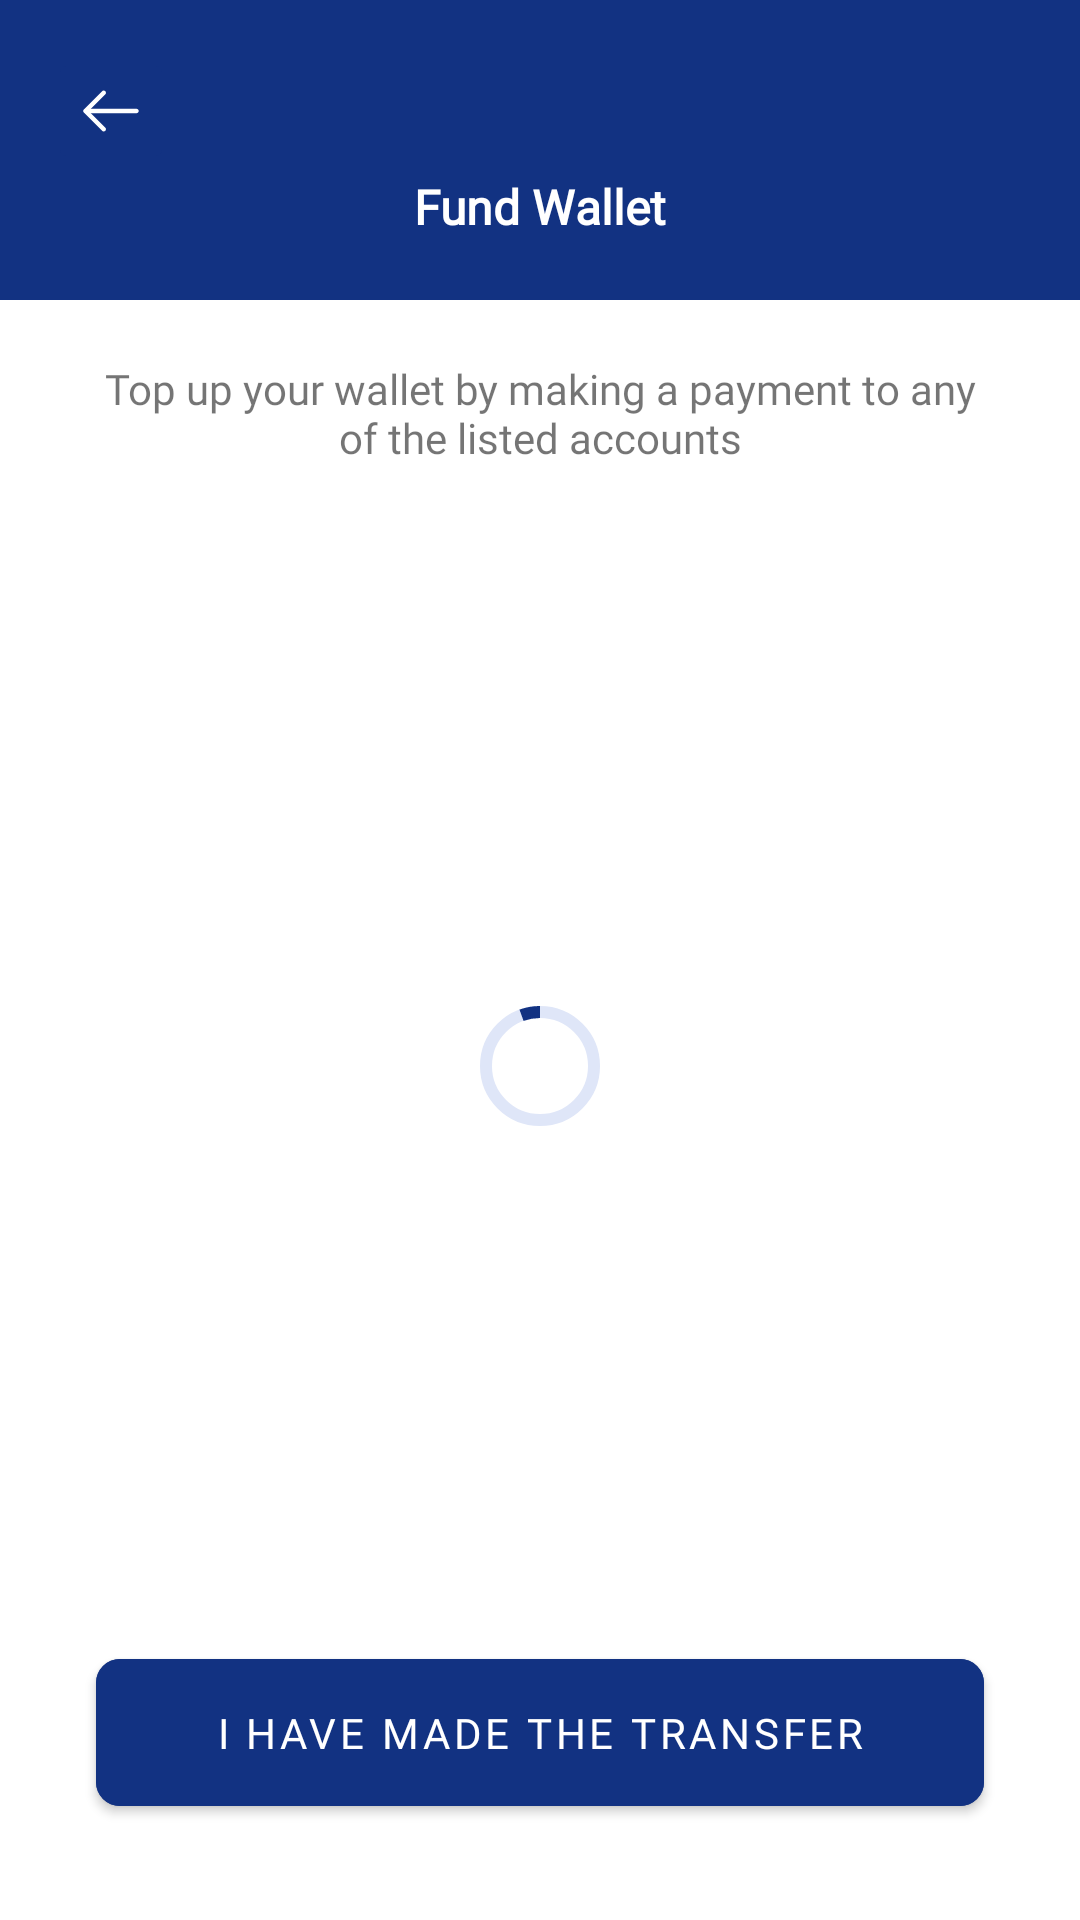

Point at icon controls on the screen. Image size 1080w x 1920h, points as (x=x, y=y).
arrow left: (x=111, y=111)
